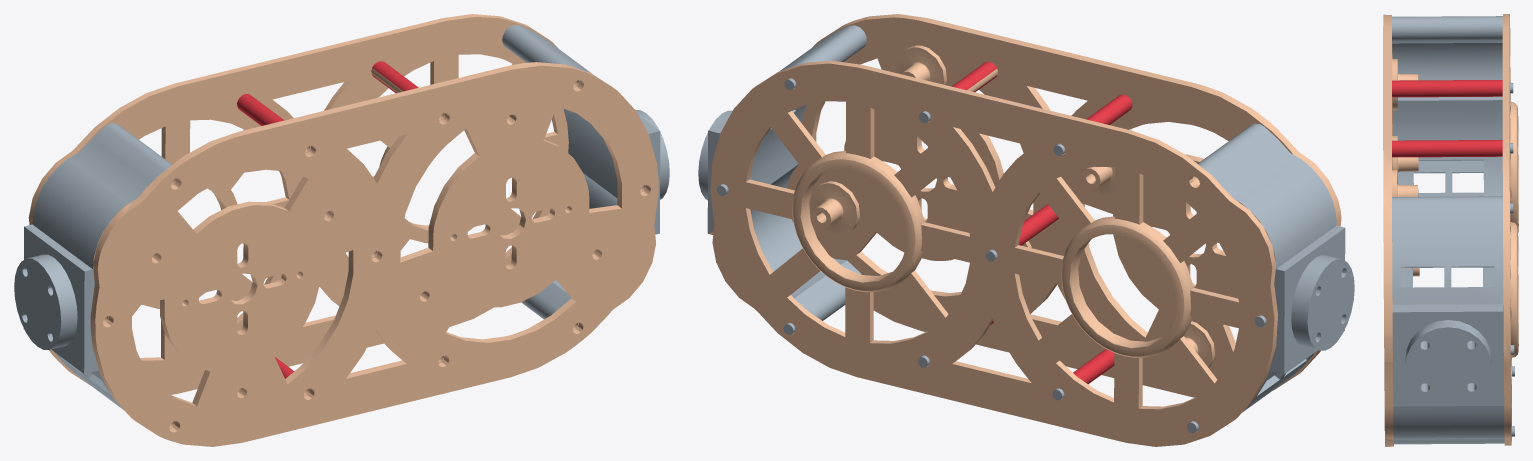
3 renders of one model, left to right at view 1: azimuth 30°, elevation 25°; view 2: azimuth 150°, elevation 25°; view 3: azimuth 270°, elevation 25°, orthographic. The views are drawn at different scales.
Visible parts, largest first — view 1: tmp_export_fr_link_0; view 2: tmp_export_fr_link_0; view 3: tmp_export_fr_link_0.
Part boxes in pixels (x1,y1,x2,y2): tmp_export_fr_link_0: [14, 14, 669, 446]; tmp_export_fr_link_0: [698, 14, 1354, 446]; tmp_export_fr_link_0: [1383, 14, 1518, 446].
Bounding box in the file's own units: 0.1858 × 0.0391 × 0.0903.
